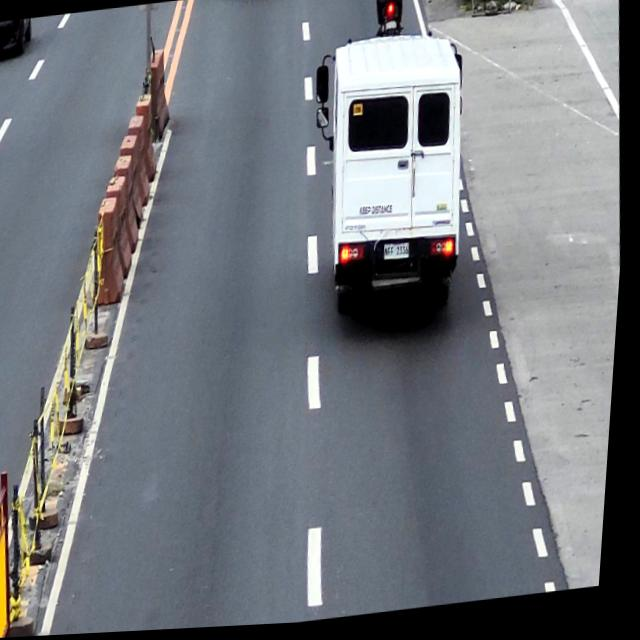Car: (302, 30, 482, 330)
License-Plate: (387, 246, 414, 264)
